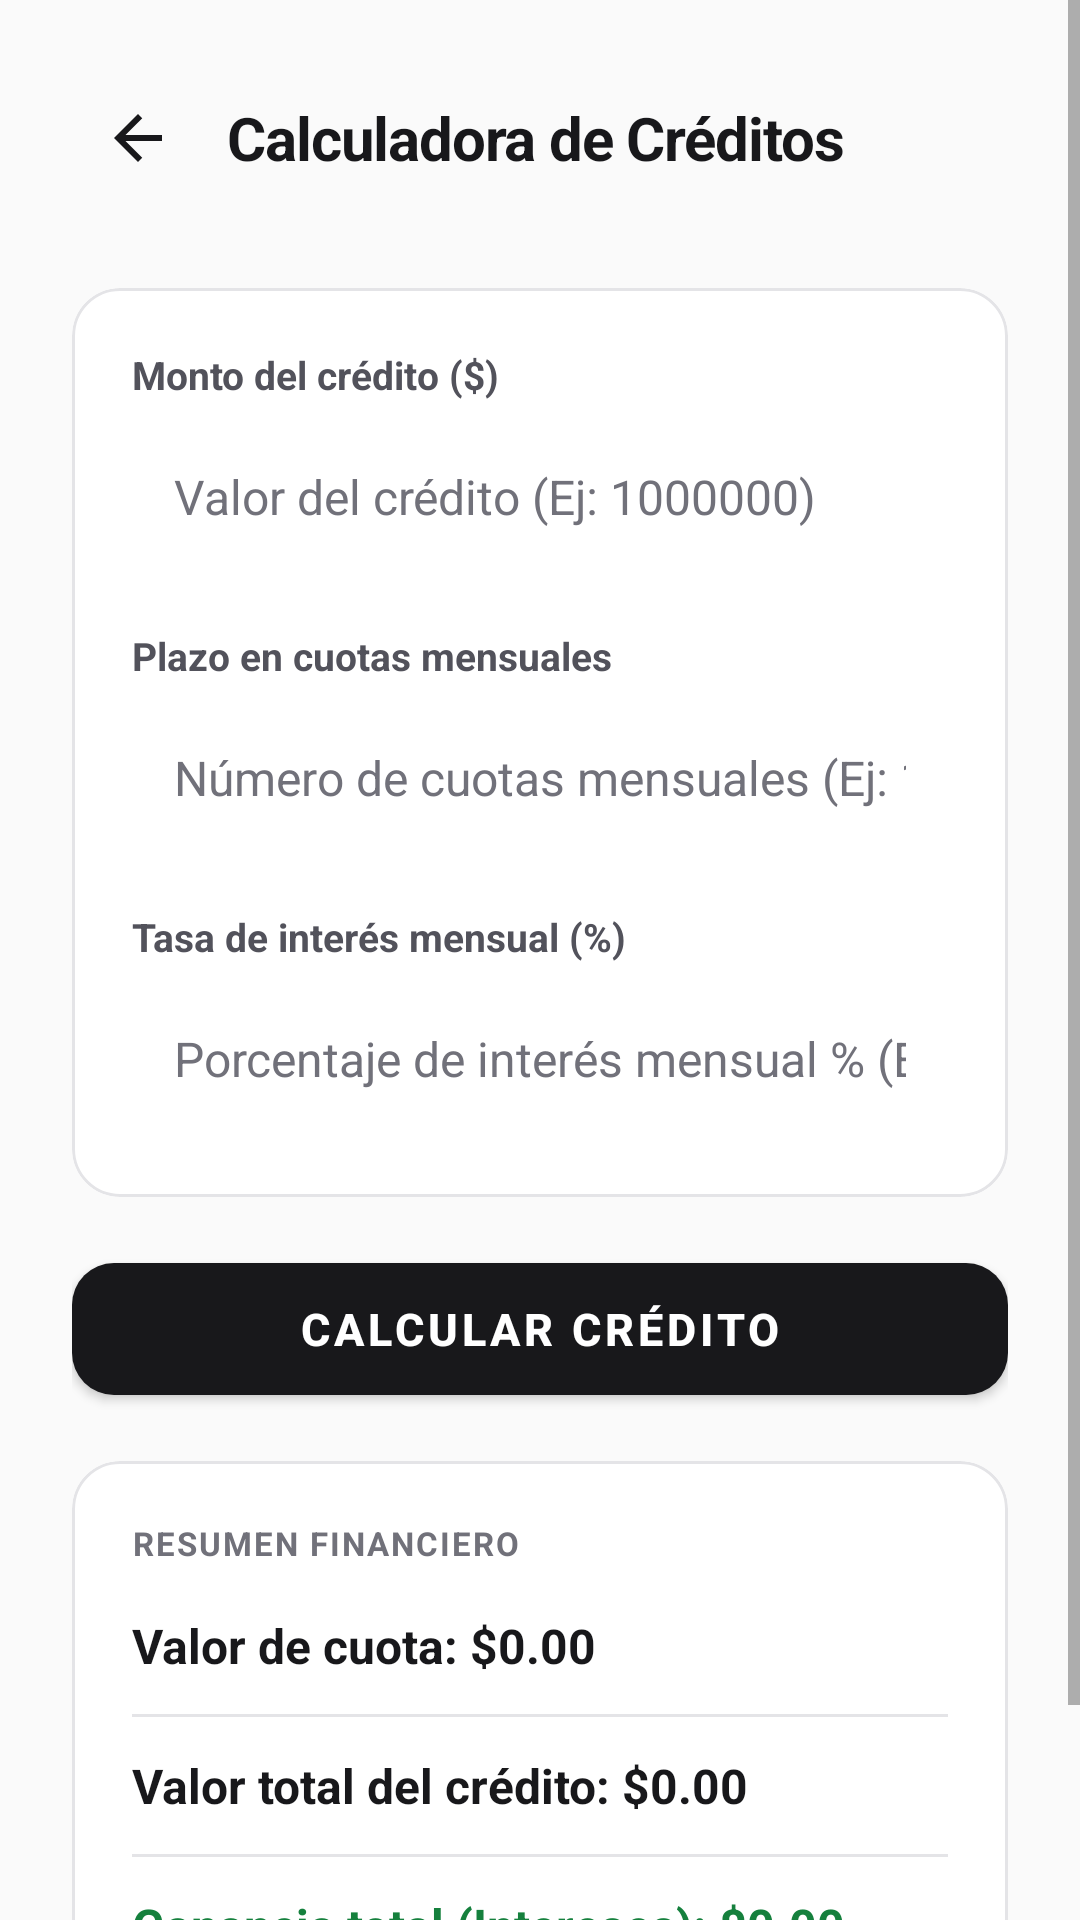

Icon bounding boxes for this 1080 × 1920 phone screenshot, format (x1, y1, x2, y2):
Volver: (114, 114, 162, 162)
